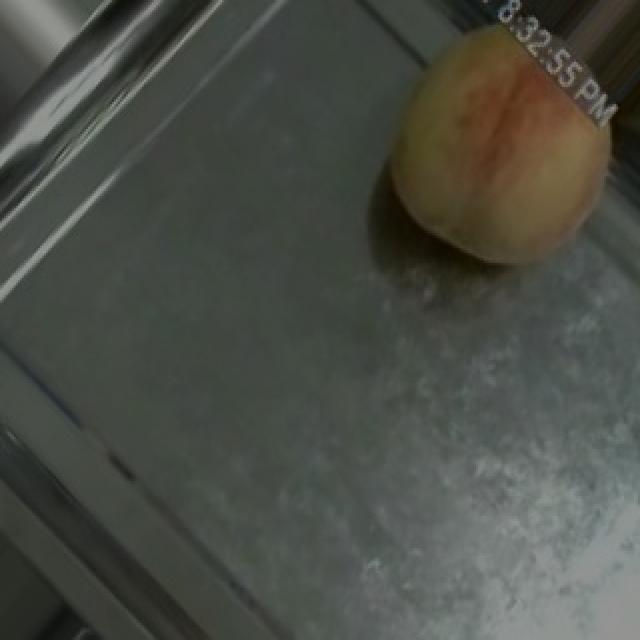Fruit: (340, 0, 640, 305)
